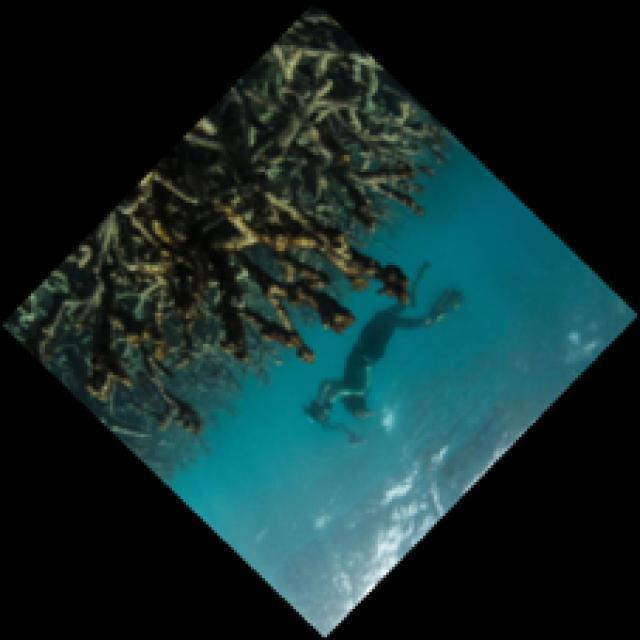Dead Coral: (31, 205, 319, 405), (240, 82, 390, 256)
